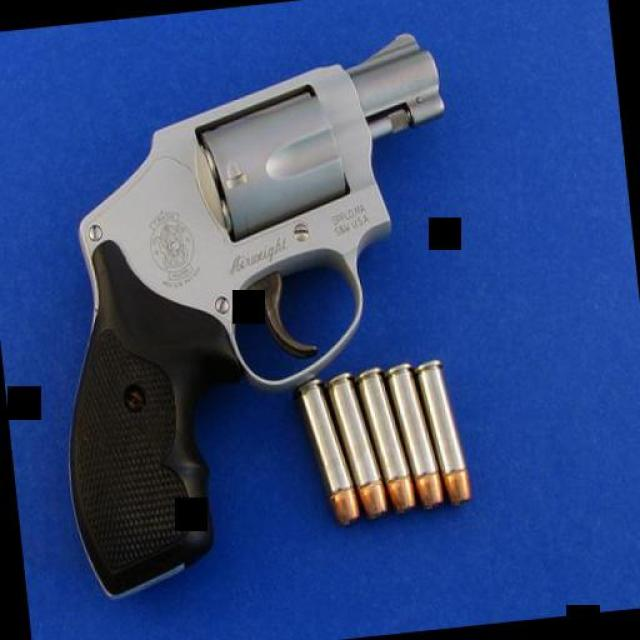gun: (26, 26, 488, 602)
